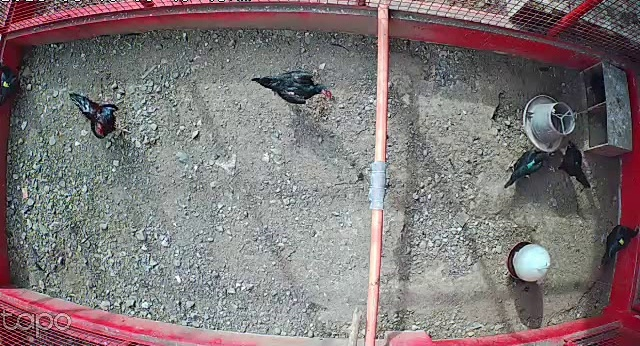Chicken: (245, 67, 337, 108), (502, 147, 551, 191), (596, 220, 638, 270), (549, 140, 591, 189), (0, 51, 27, 114)
Rooster: (67, 86, 133, 146)
Saddle_Color_Yellow: (0, 80, 12, 89)
